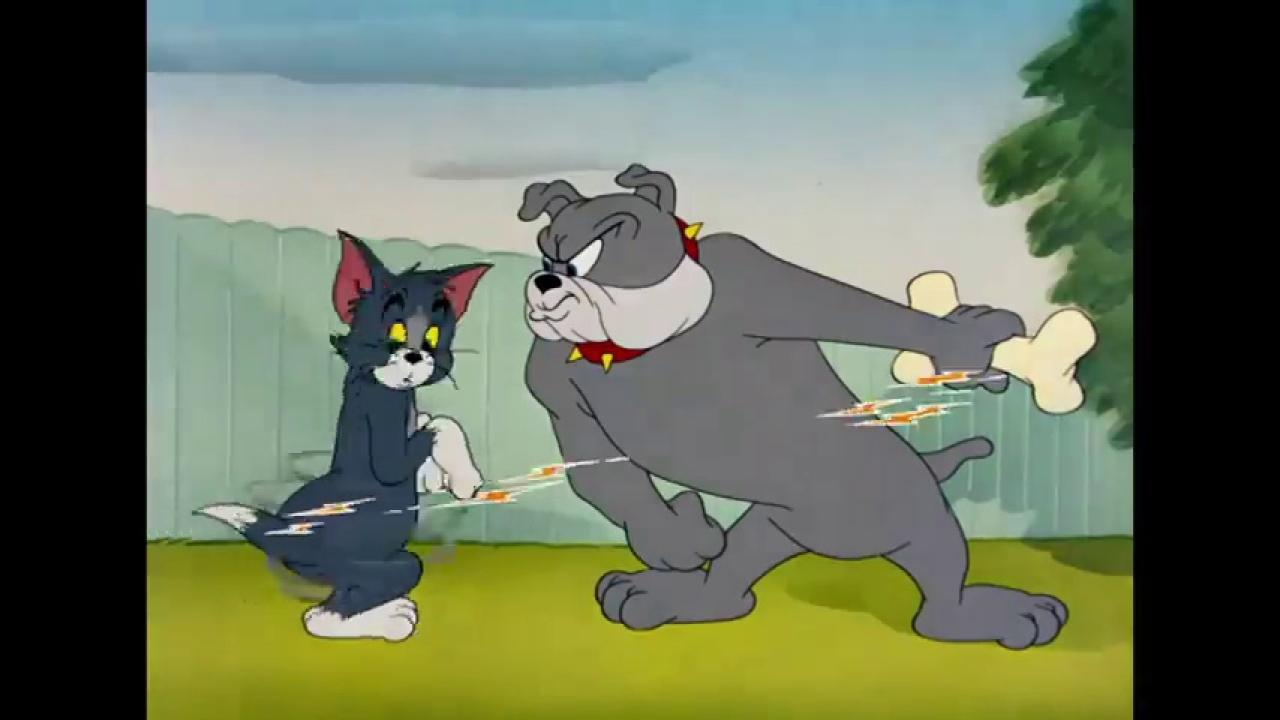Tom: (193, 227, 497, 644)
